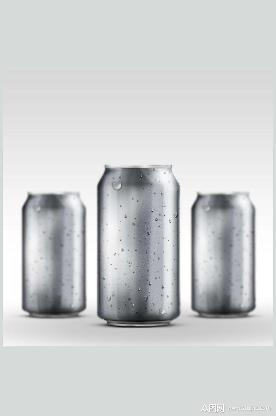Can: (98, 165, 180, 327), (22, 193, 86, 317), (192, 193, 255, 317)
